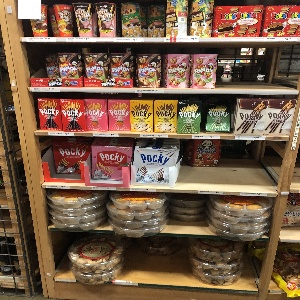void: (219, 44, 298, 89), (124, 240, 189, 285), (222, 141, 279, 191)
